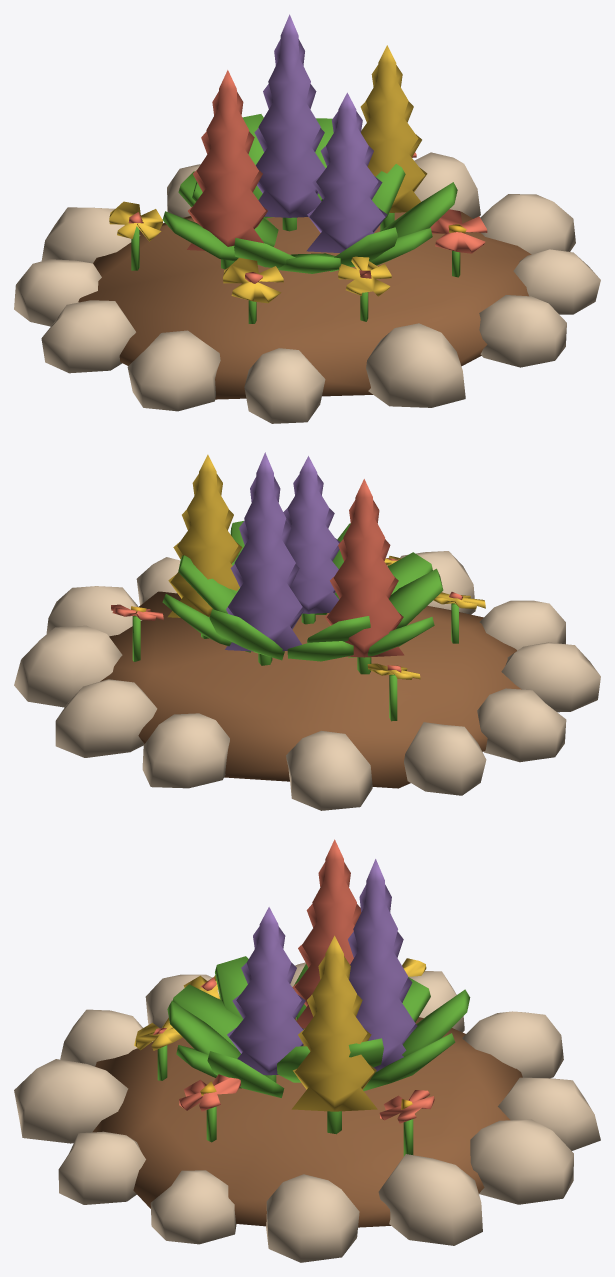
File: flower-bed.glb
3 views of the same model, one above another, from view 1: azimuth 30°, elevation 25°; view 2: azimuth 150°, elevation 25°; view 3: azimuth 270°, elevation 25° (orthographic). The views are drawn at different scales.
Visible parts, largest first — view 1: body; view 2: body; view 3: body.
Boxes of the visible parts, x1,y1,x2,y2 form: body: [14, 14, 600, 423]; body: [14, 452, 600, 810]; body: [14, 839, 600, 1262].
Bounding box in the file's own units: 1.54 × 0.76 × 1.43.
